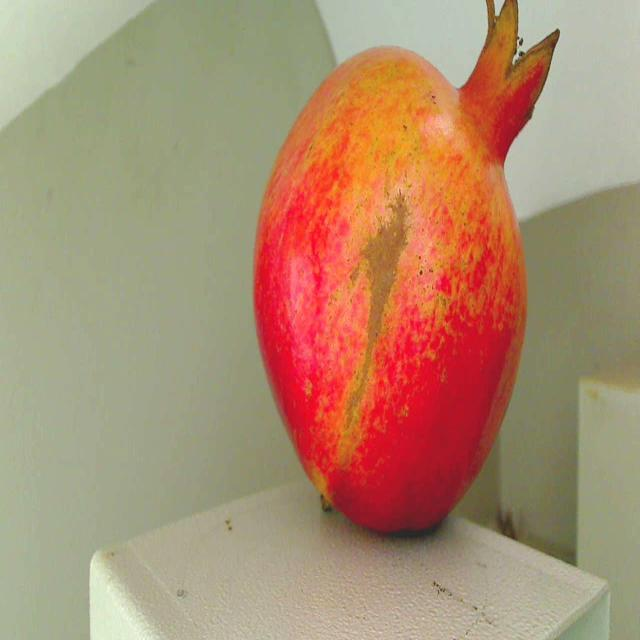pomegranate: (236, 0, 569, 560)
